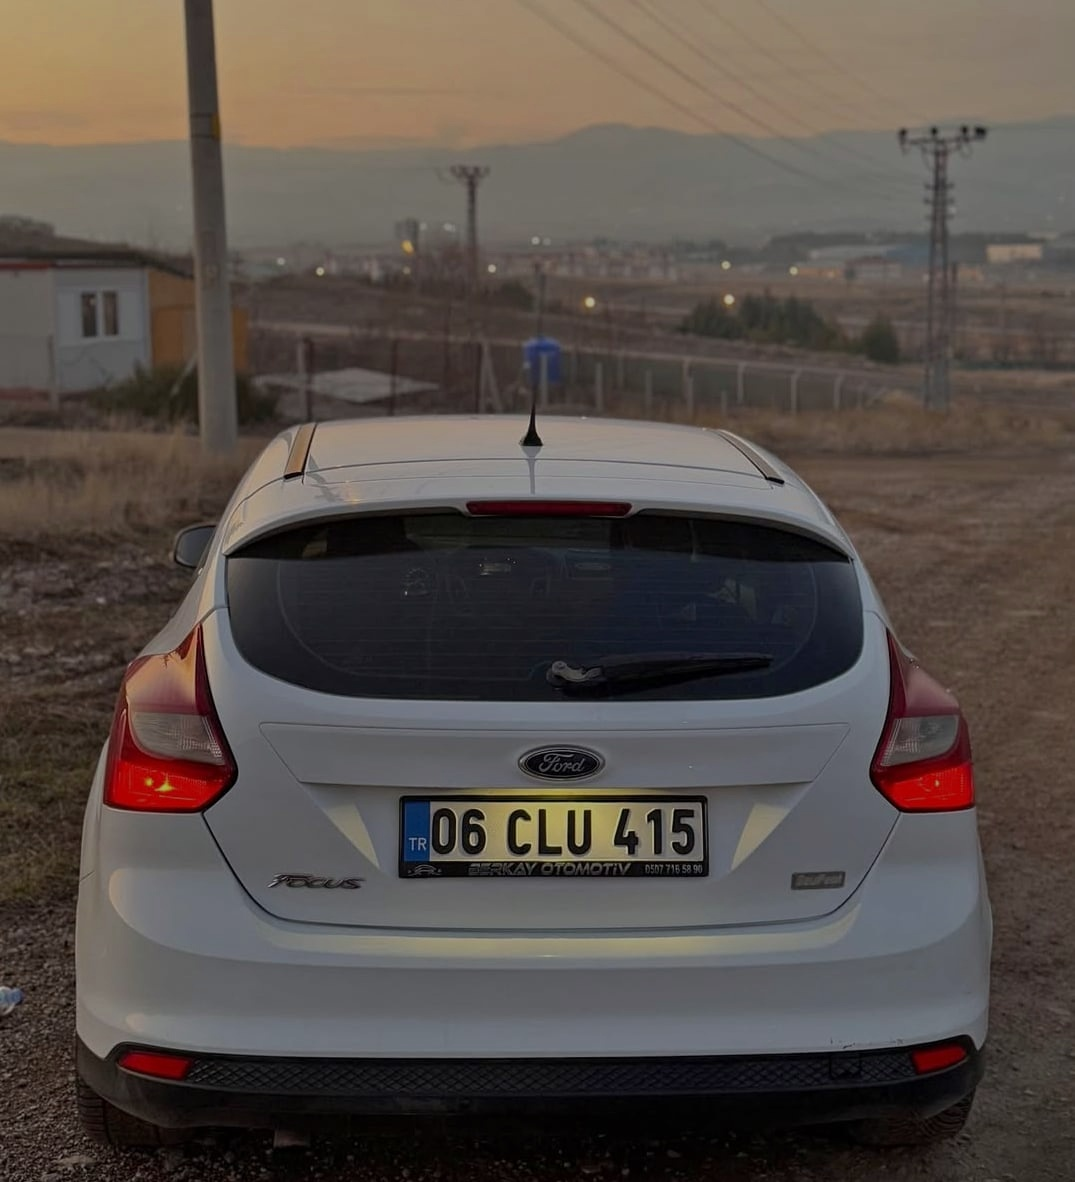plaka: (431, 790, 708, 865)
